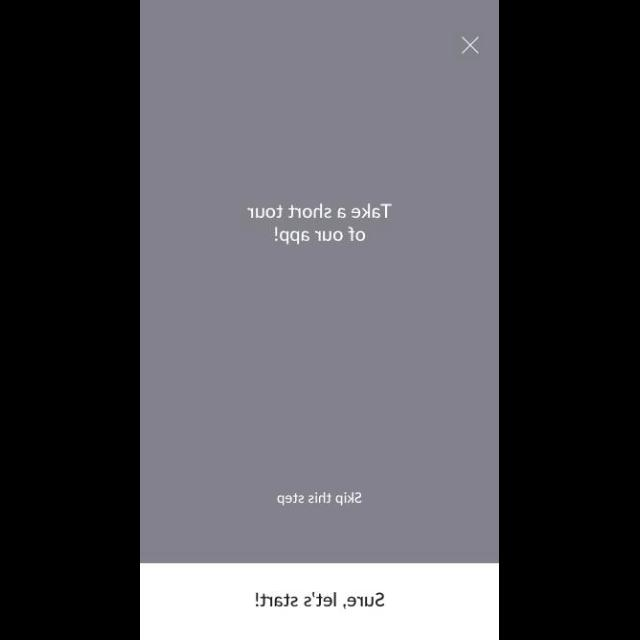icon: (460, 36, 482, 54)
text: (248, 204, 392, 246), (276, 490, 364, 506)
textbutton: (141, 562, 499, 640)
